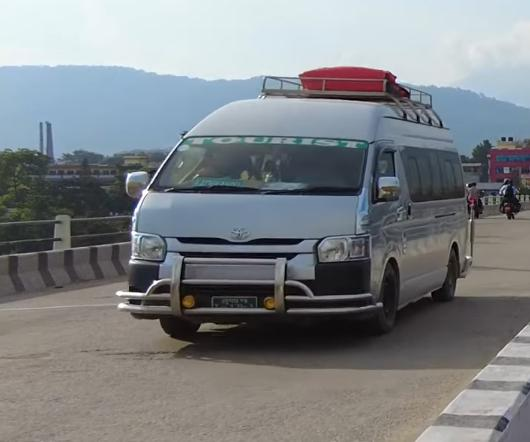micro_bus: (113, 67, 481, 346)
